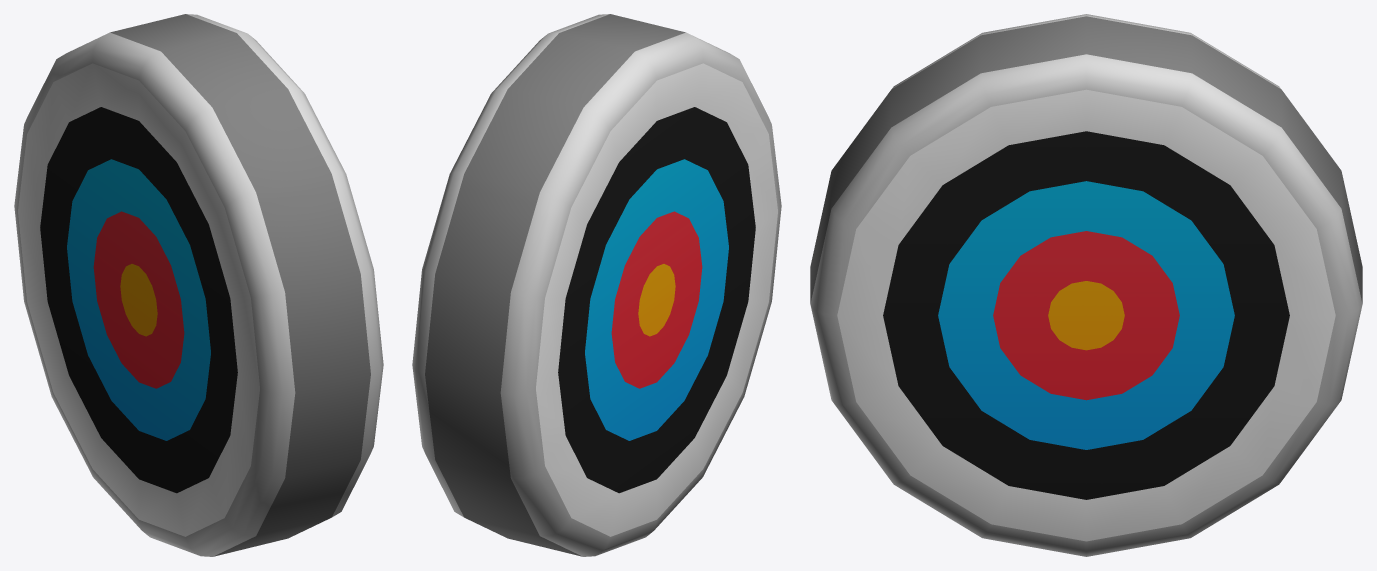
Rendered from Target_V1_00.fbx.
3 views of the same model, side by side, from view 1: azimuth 30°, elevation 25°; view 2: azimuth 150°, elevation 25°; view 3: azimuth 270°, elevation 25° (orthographic). The views are drawn at different scales.
Visible parts, largest first — view 1: Target_V1_00; view 2: Target_V1_00; view 3: Target_V1_00.
Part boxes in pixels (x1,y1,x2,y2): Target_V1_00: [14, 14, 383, 556]; Target_V1_00: [412, 14, 781, 556]; Target_V1_00: [810, 14, 1362, 556].
Size of the model in its own units: 10.19 by 39.47 by 39.47.
